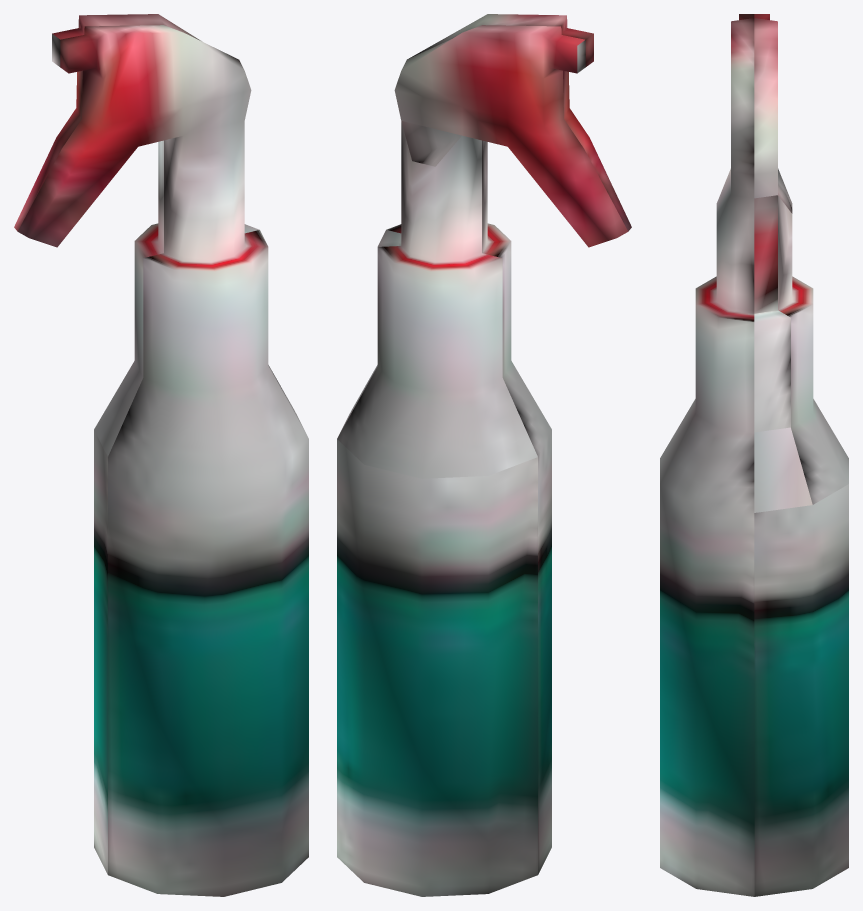
File: spray_cleaner.FBX
The picture shows the model from 3 angles, left to right: view 1: azimuth 30°, elevation 25°; view 2: azimuth 150°, elevation 25°; view 3: azimuth 270°, elevation 25°; orthographic projection. The views are drawn at different scales.
Visible parts, largest first — view 1: spray_cleaner; view 2: spray_cleaner; view 3: spray_cleaner.
Part boxes in pixels (box(x1,y1,x2,y2)): spray_cleaner: box(14, 14, 308, 896); spray_cleaner: box(337, 14, 631, 896); spray_cleaner: box(660, 14, 848, 896).
Bounding box in the file's own units: 8.55 × 25.16 × 5.48.
